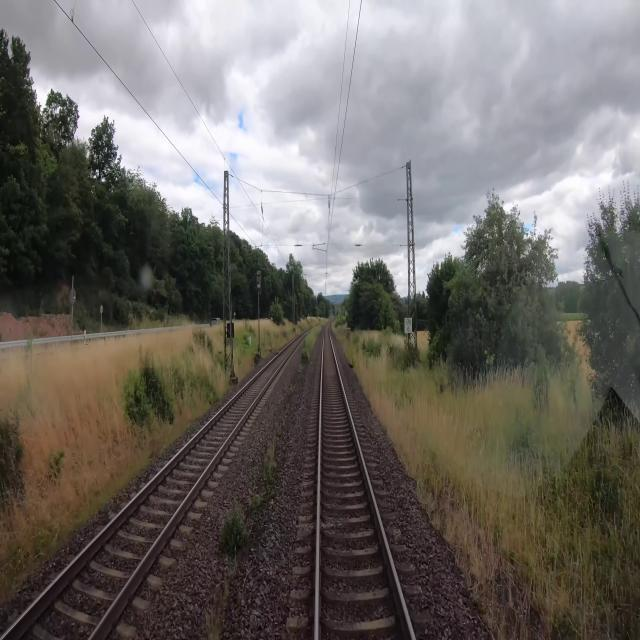Plant: (202, 443, 280, 639), (301, 325, 322, 364)
